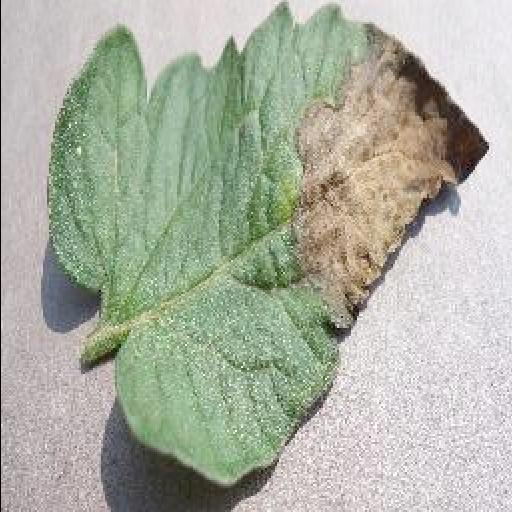disease_tomato: (48, 0, 492, 484)
